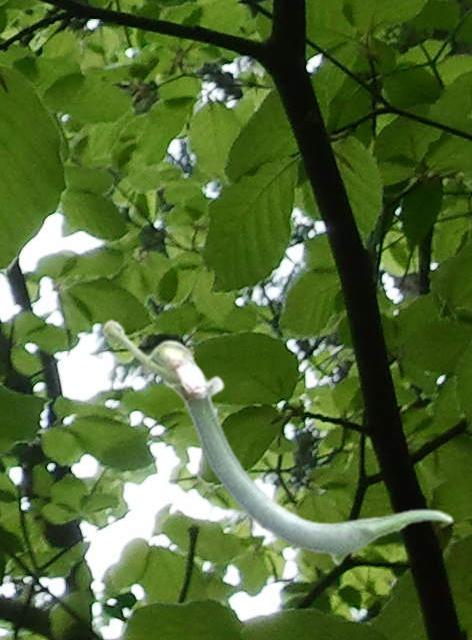french_bean: (101, 318, 453, 565)
